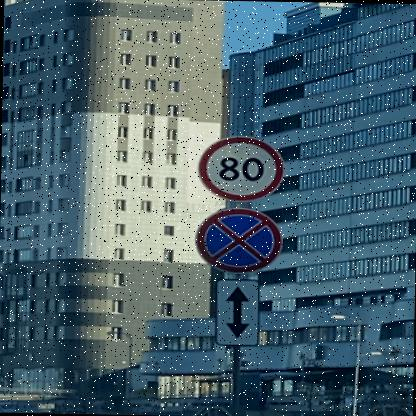speedlimit: (193, 134, 282, 200)
